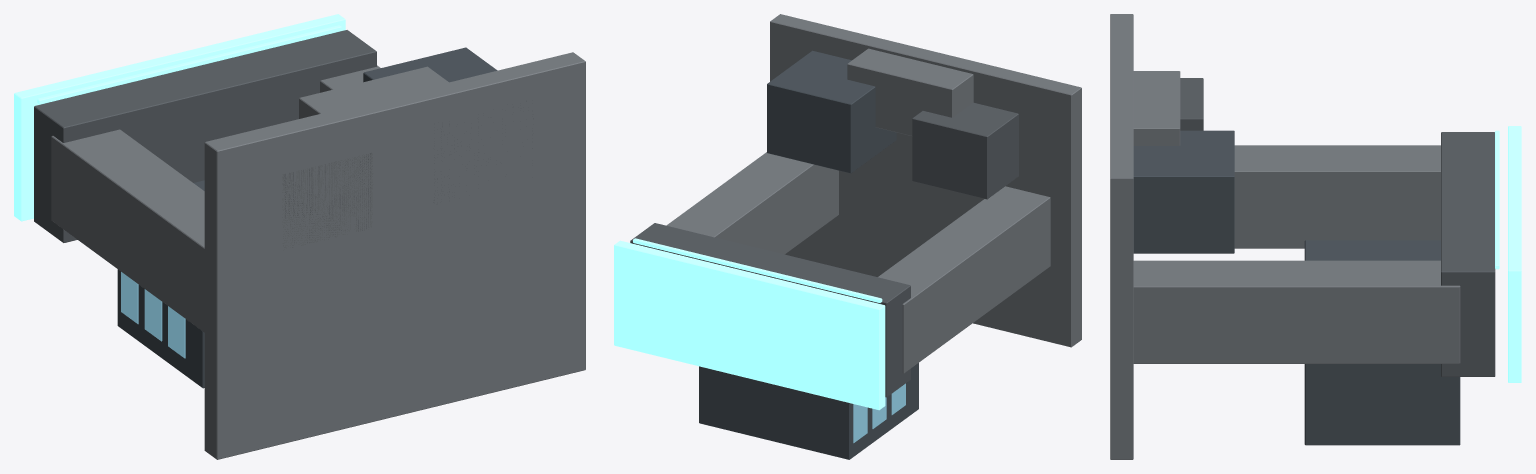
File: mass_gantry_block_yard_r.glb
The picture shows the model from 3 angles, left to right: view 1: azimuth 30°, elevation 25°; view 2: azimuth 150°, elevation 25°; view 3: azimuth 270°, elevation 25°; orthographic projection. The views are drawn at different scales.
Parts seen in each view (by area): view 1: FlightKit_MassGantry_yard_R; view 2: FlightKit_MassGantry_yard_R; view 3: FlightKit_MassGantry_yard_R.
Part boxes in pixels (x1,y1,x2,y2): FlightKit_MassGantry_yard_R: [14, 14, 585, 459]; FlightKit_MassGantry_yard_R: [614, 14, 1081, 459]; FlightKit_MassGantry_yard_R: [1110, 14, 1521, 459].
Size of the model in its own units: 10 by 8.75 by 10.57.
